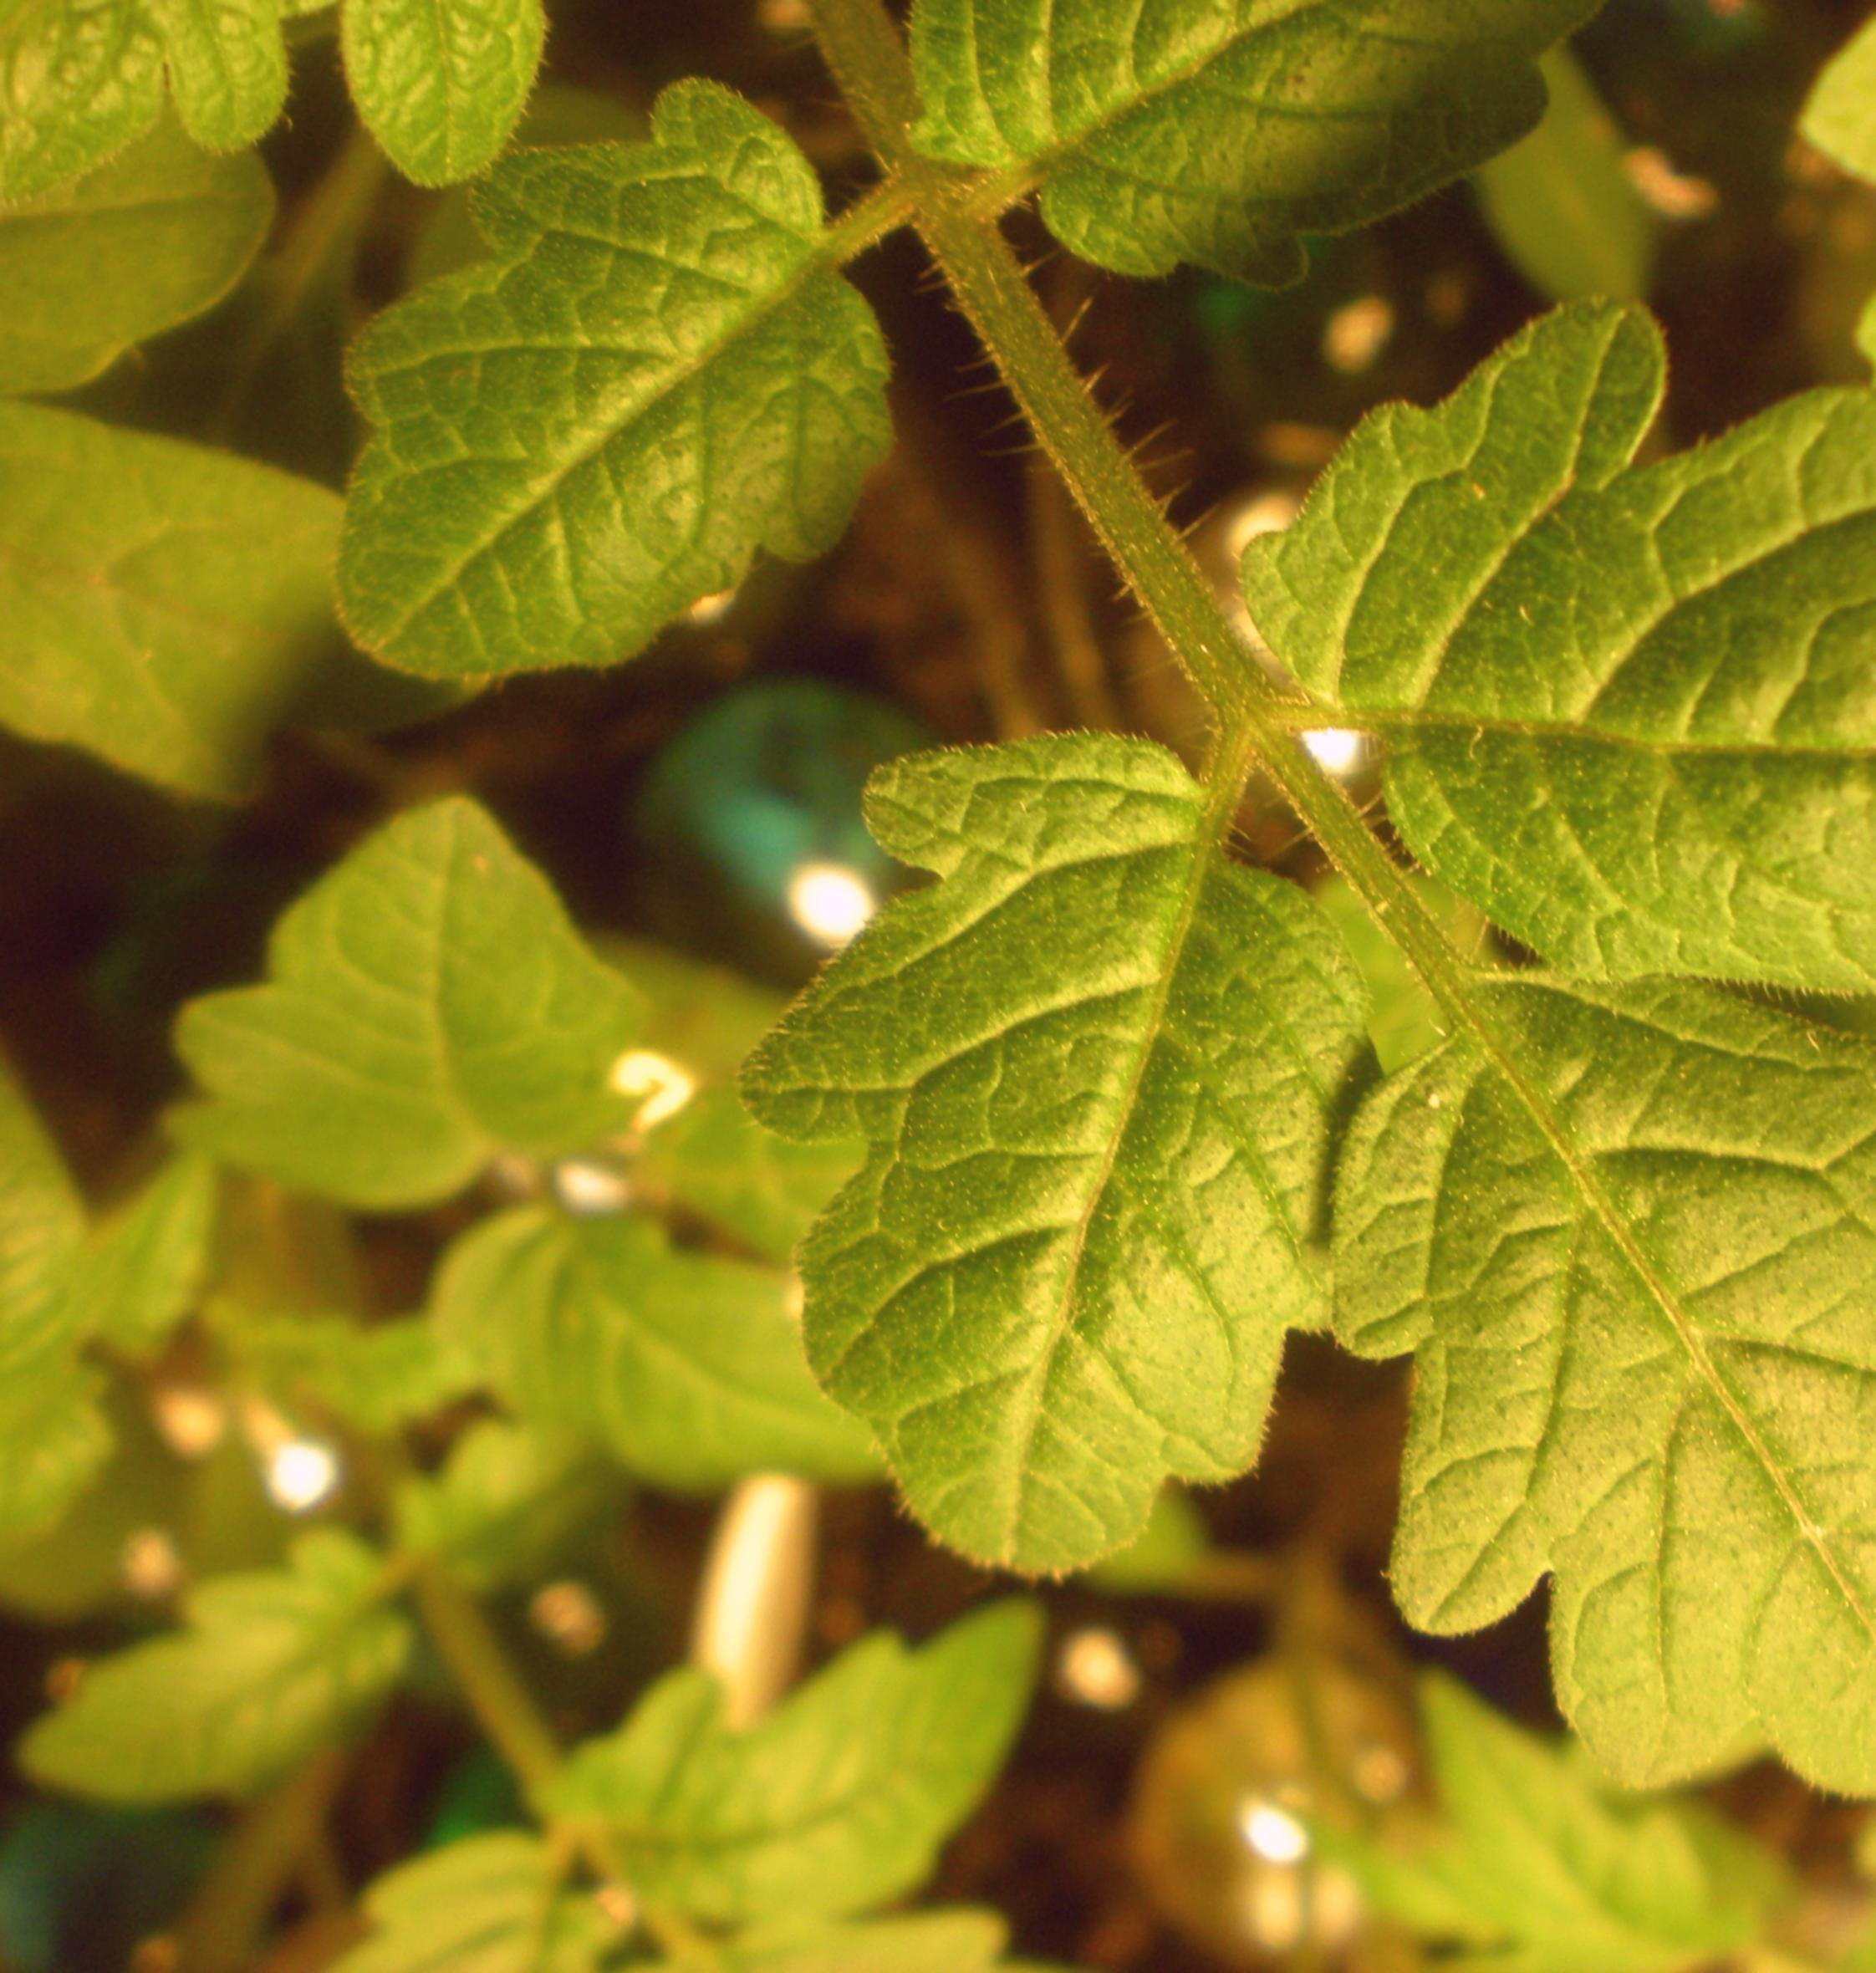Tomato leaf: (740, 641, 1406, 1601), (1348, 934, 1876, 1822), (1219, 312, 1876, 974), (277, 132, 965, 735), (895, 0, 1689, 315), (162, 782, 701, 1219), (527, 1598, 1078, 1955), (425, 1194, 907, 1538)
